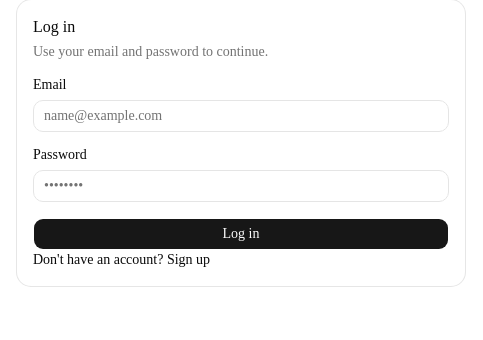
it: auth flow › shows an error for invalid login credentials
Type "login@example.com" into the field with test id "auth-login-email".
click(241, 116); type("login@example.com")  # box [33,100,449,132]
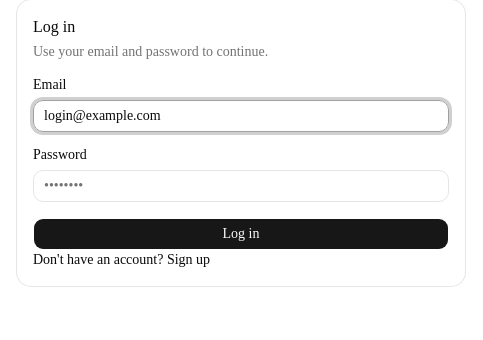
Type "wrong-password" into the password field with test id "auth-login-password".
click(241, 186); type("wrong-password")  # box [33,170,449,202]
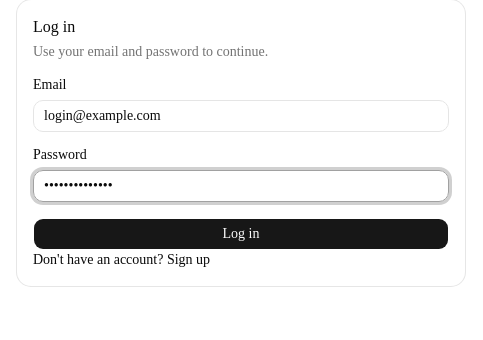
Click the button with test id "auth-login-submit".
click(241, 234)  # box [33,218,449,250]
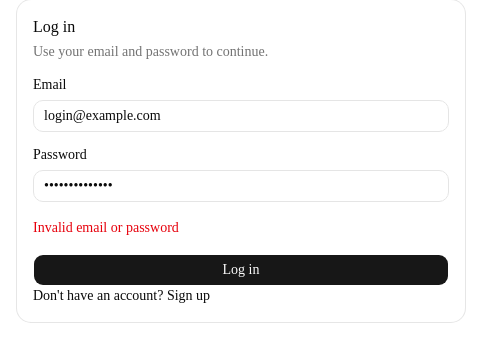
expect the message reads "Invalid email or password": met, box [33,220,179,235]
